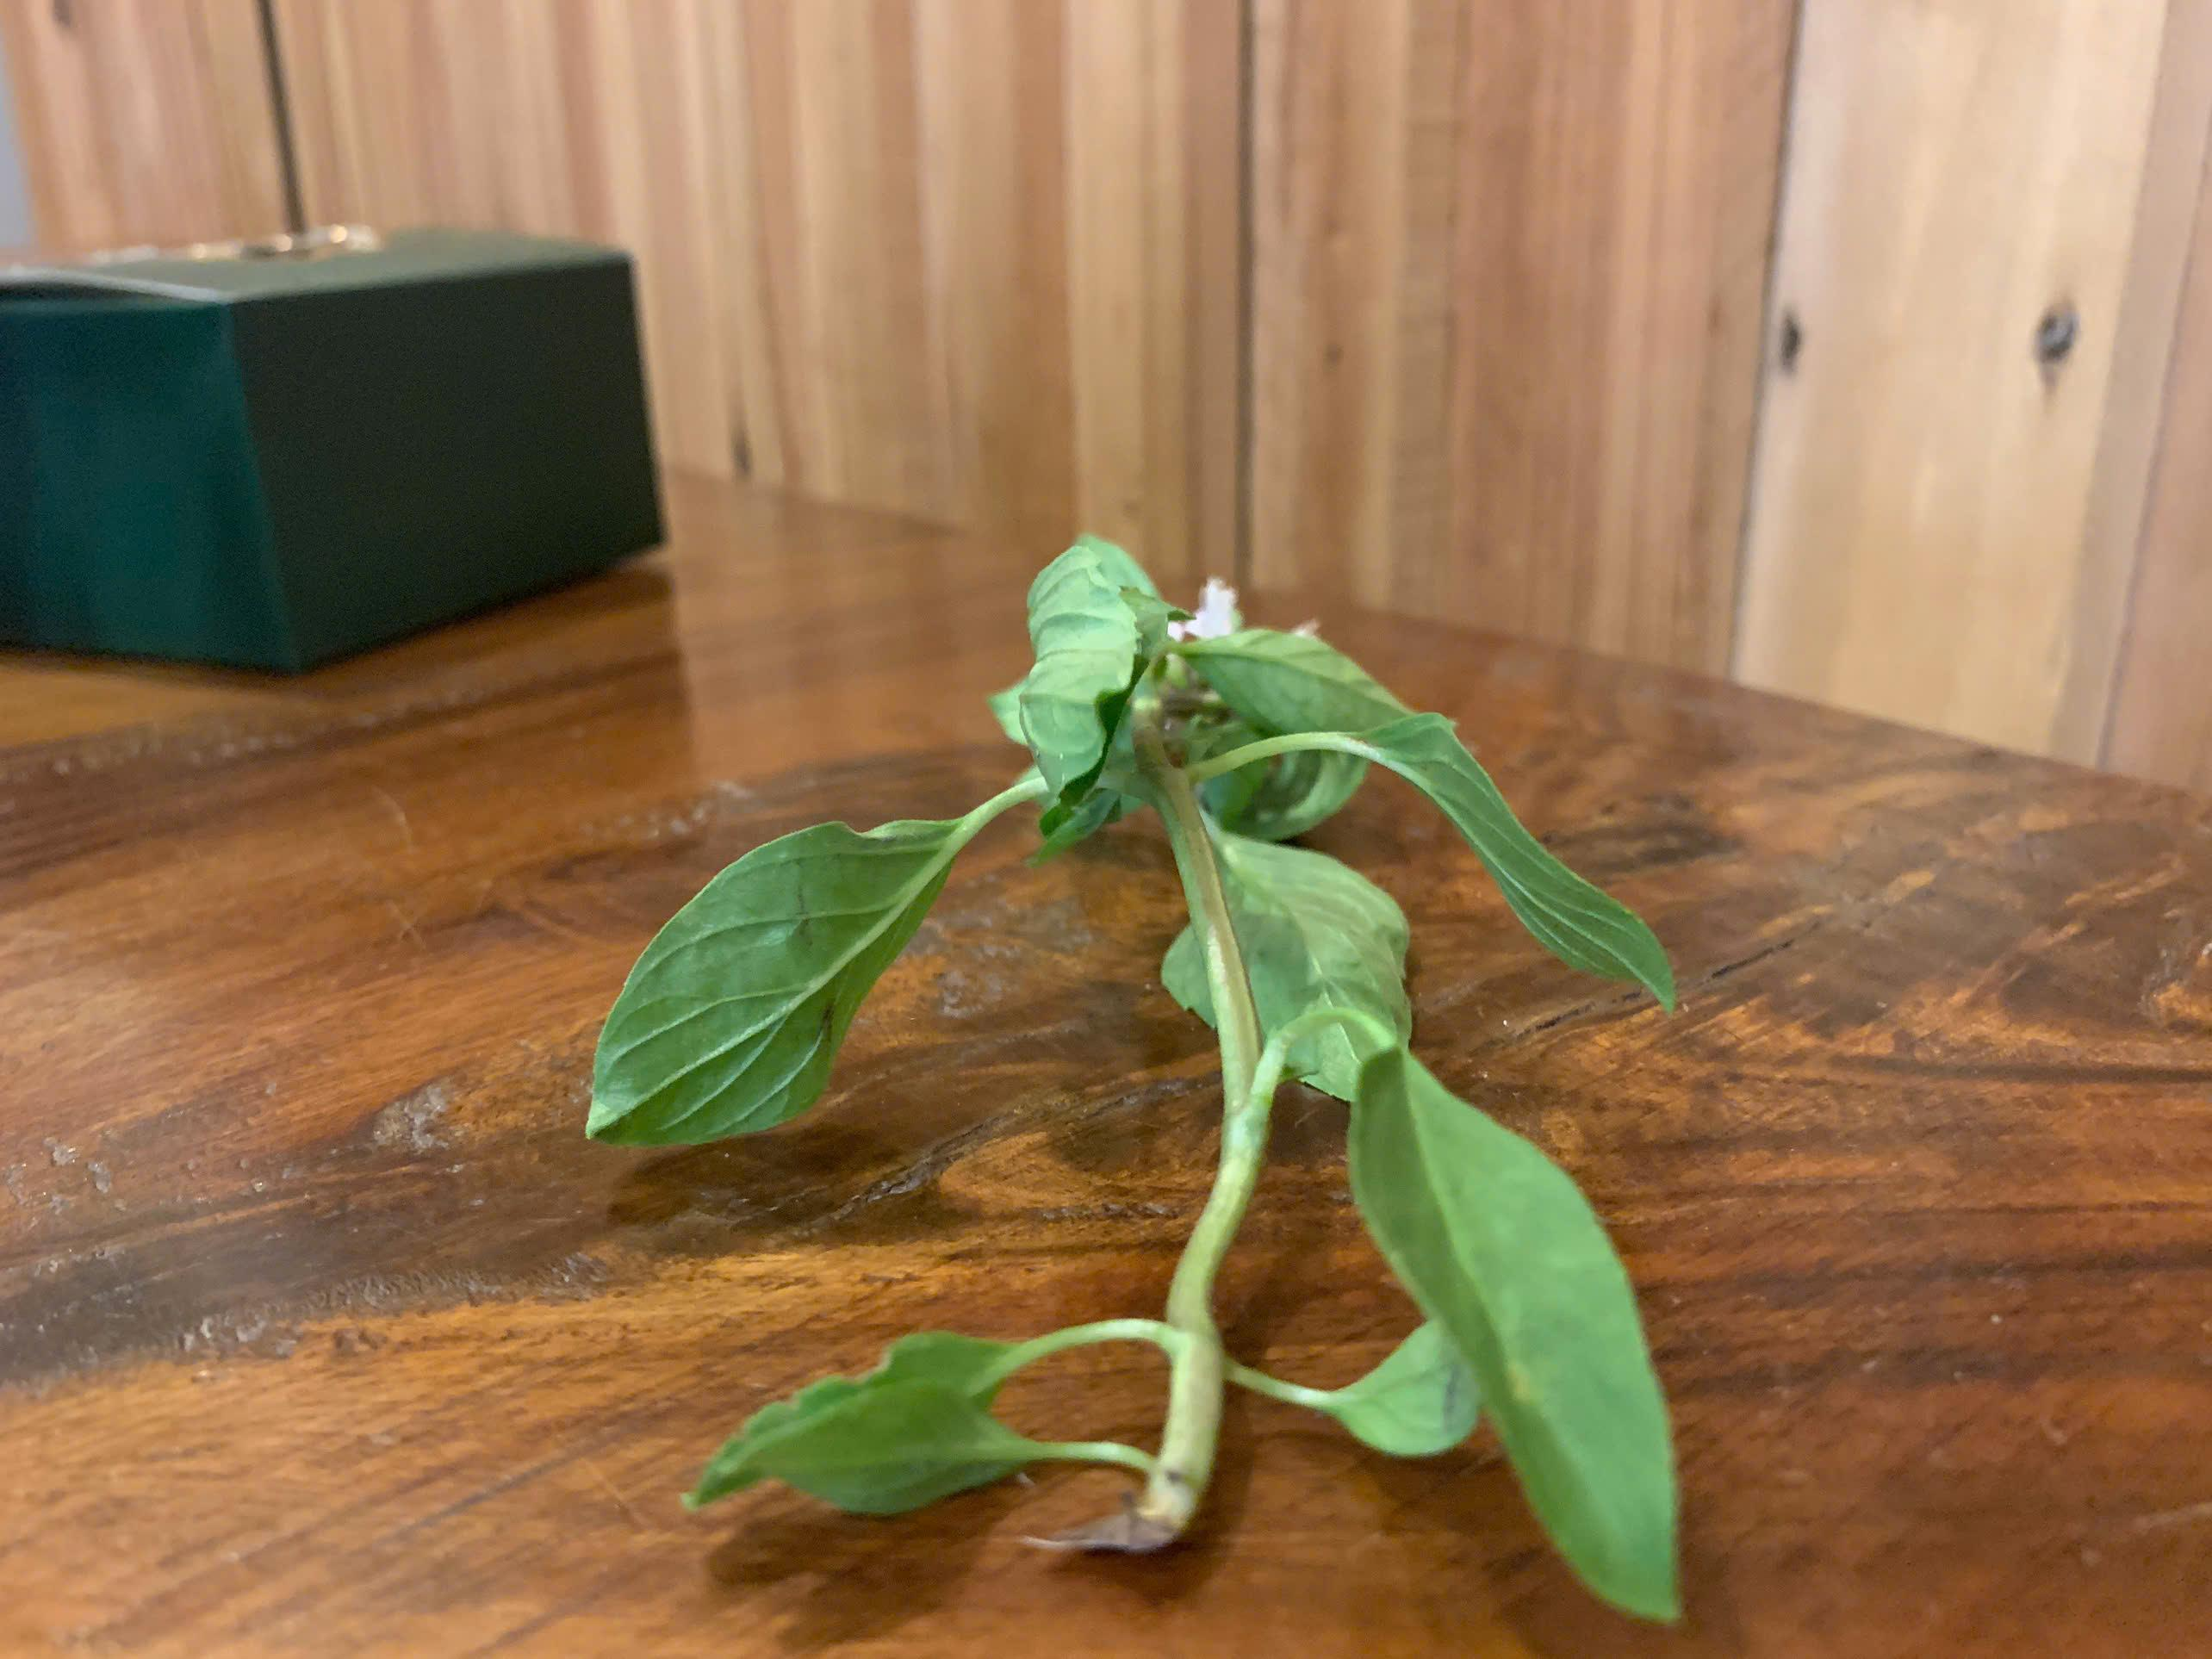Huu co: (601, 537, 1662, 1525)
